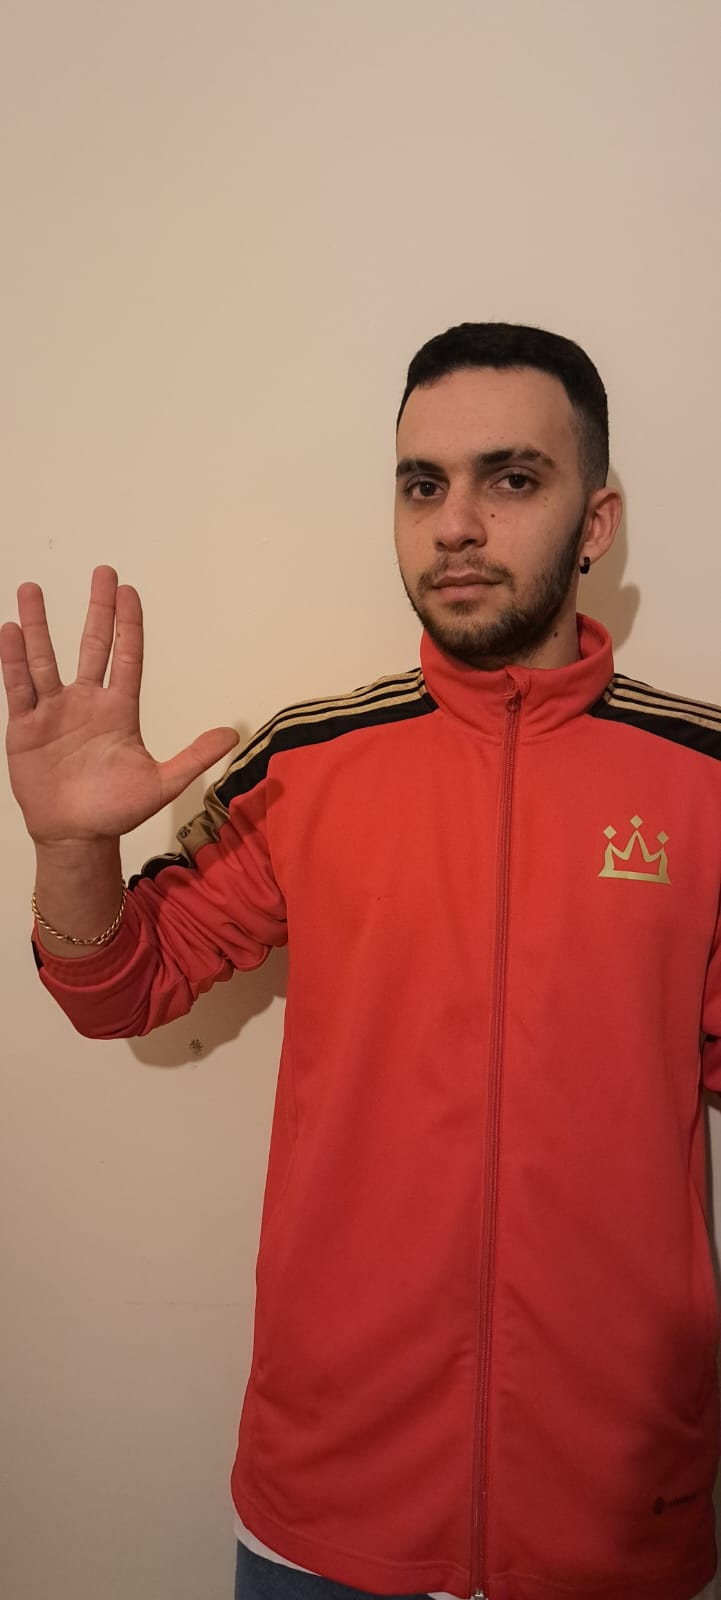alien: (1, 566, 249, 838)
